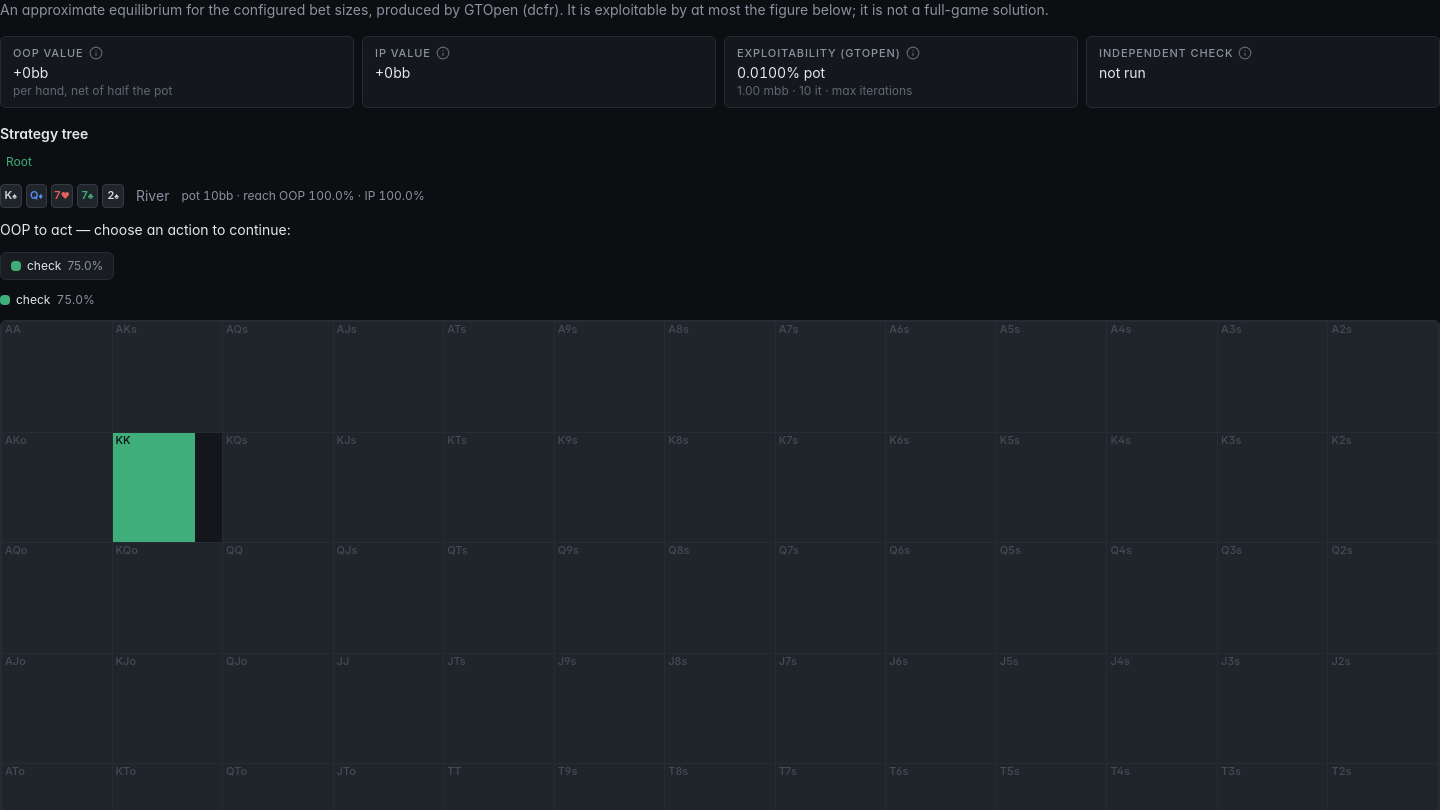
Test case: node locking › locks a decision from the tree and re-solves with the lock added to the spec
Later steps or results of the test are not shown.
Click the button "check 75.0%" at (57, 266), box [0,252,114,280]
(page scrolled)
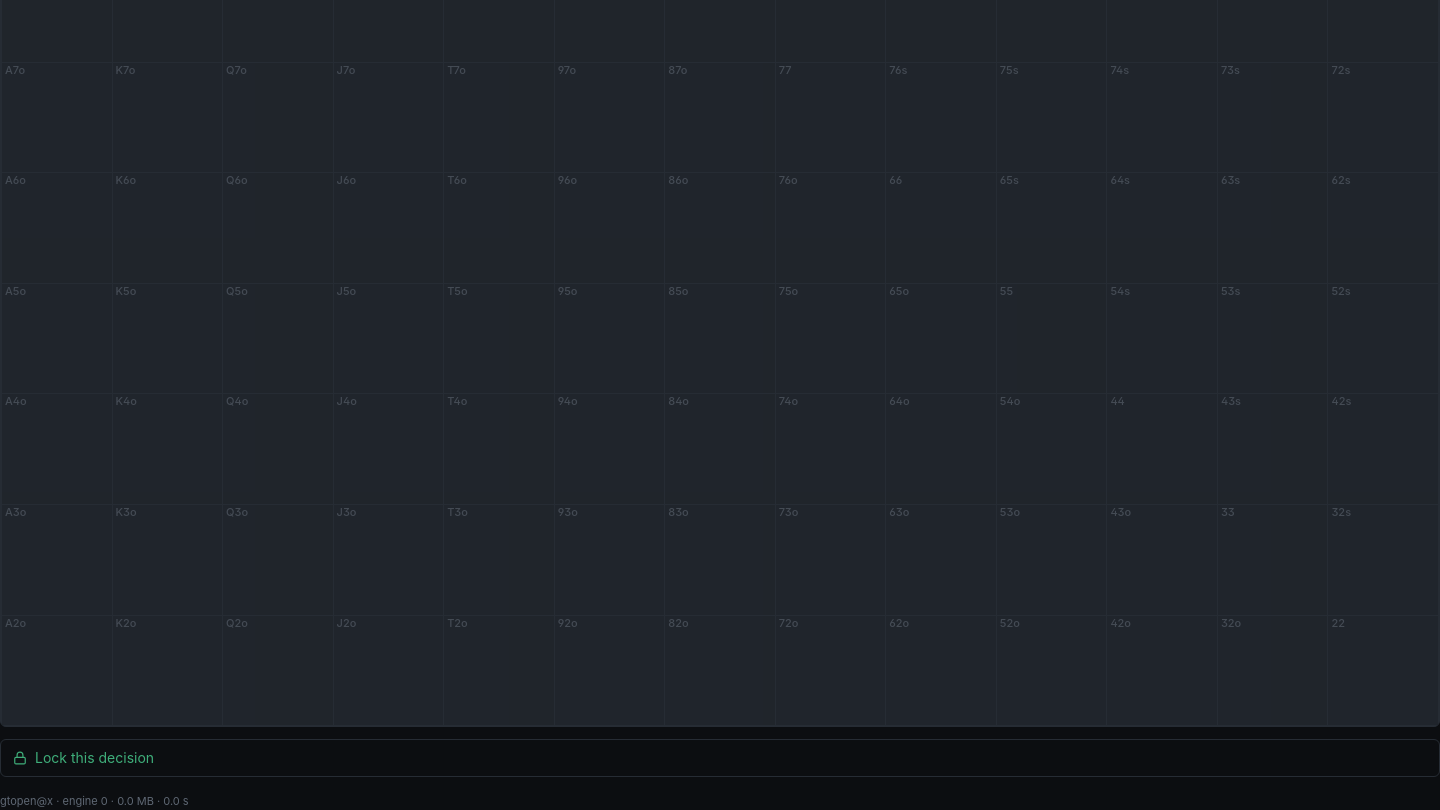
Click the heading "Lock this decision" at (84, 758), box [13,749,154,766]
(page scrolled)
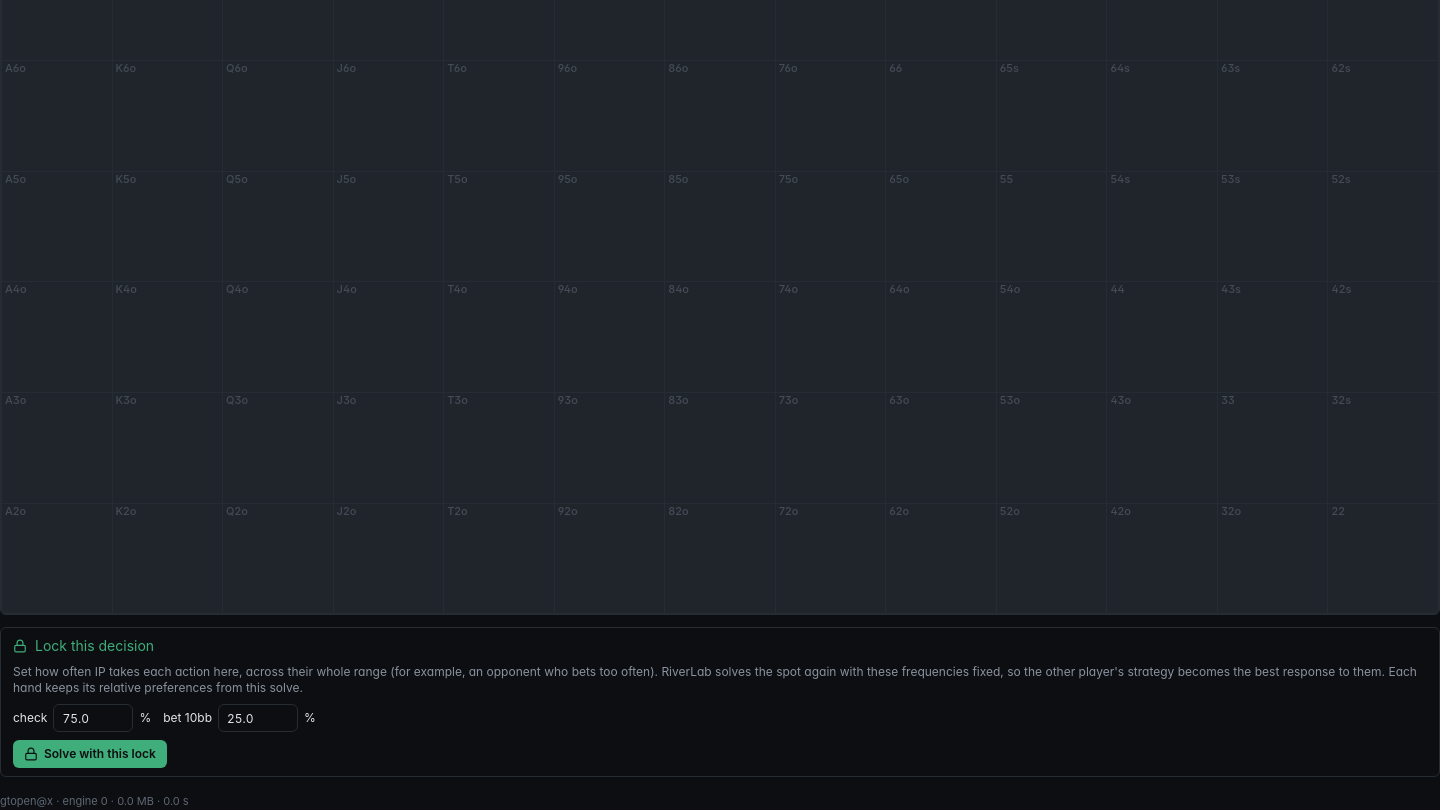
Expected: the number field named "check (%)" holds "75", [53,704,133,732]
